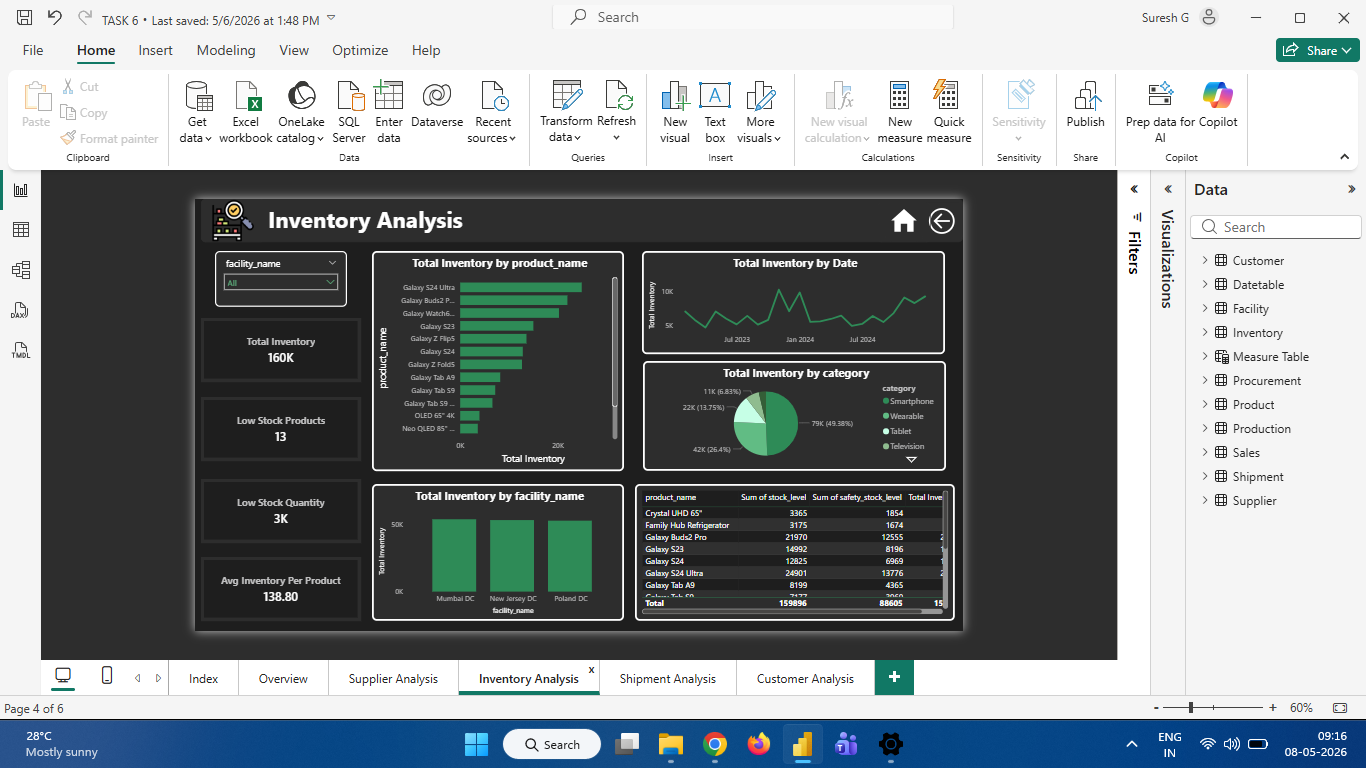

The page's visual inventory and layout, read from the dashboard file:
{"tool":"powerbi","page":{"name":"Inventory Analysis","canvas":[1280,720],"ordinal":3},"visuals":[{"type":"textbox","box":[10,0,1270,71.7],"z":0},{"type":"cardVisual","fields":{"Data":["Measure Table.Total Inventory"]},"box":[10,198.3,266.7,106.7],"z":1},{"type":"cardVisual","fields":{"Data":["Measure Table.Low Stock Products"]},"box":[10,330,266.7,106.7],"z":2},{"type":"cardVisual","fields":{"Data":["Measure Table.Low Stock Quantity"]},"box":[10,466.7,266.7,106.7],"z":3},{"type":"cardVisual","fields":{"Data":["Measure Table.Avg Inventory Per Product"]},"box":[10,596.7,266.7,106.7],"z":4},{"type":"clusteredBarChart","fields":{"Y":["Measure Table.Total Inventory"],"Category":["Product.product_name"]},"box":[295,86.7,420,366.7],"z":5},{"type":"clusteredColumnChart","fields":{"Y":["Measure Table.Total Inventory"],"Category":["Facility.facility_name"]},"box":[295,475,420,228.3],"z":6},{"type":"lineChart","title":"Total Inventory by Date","fields":{"Y":["Measure Table.Total Inventory"],"Category":["Datetable.date.Variation.Date Hierarchy.Year","Datetable.date.Variation.Date Hierarchy.Quarter","Datetable.date.Variation.Date Hierarchy.Month","Datetable.date.Variation.Date Hierarchy.Day"]},"box":[745,86.7,505,171.7],"z":7},{"type":"tableEx","fields":{"Values":["Product.product_name","Sum(Inventory.stock_level)","Sum(Inventory.safety_stock_level)","Measure Table.Total Inventory"]},"box":[733.3,475,533.3,228.3],"z":8},{"type":"pieChart","fields":{"Category":["Product.category"],"Y":["Measure Table.Total Inventory"]},"box":[746.7,270,505,183.3],"z":9},{"type":"slicer","fields":{"Values":["Facility.facility_name"]},"box":[33.3,86.7,220,93.3],"z":10},{"type":"image","box":[0,0,100,71.7],"z":11},{"type":"actionButton","box":[1180,5,71.7,63.3],"z":12},{"type":"image","box":[1095,5,85,63.3],"z":13}]}

Visuals, with their boxes on the page's 1280x720 design canvas (x1, y1, x2, y2). These are canvas units, not pixel positions in the 1366x768 screenshot, which may show the page scaled, cropped or inside an application window:
textbox: 10, 0, 1280, 72
cardVisual - Measure Table.Total Inventory: 10, 198, 277, 305
cardVisual - Measure Table.Low Stock Products: 10, 330, 277, 437
cardVisual - Measure Table.Low Stock Quantity: 10, 467, 277, 573
cardVisual - Measure Table.Avg Inventory Per Product: 10, 597, 277, 703
clusteredBarChart - Measure Table.Total Inventory x Product.product_name: 295, 87, 715, 453
clusteredColumnChart - Measure Table.Total Inventory x Facility.facility_name: 295, 475, 715, 703
"Total Inventory by Date" lineChart: 745, 87, 1250, 258
tableEx - Product.product_name x Sum(Inventory.stock_level): 733, 475, 1267, 703
pieChart - Product.category x Measure Table.Total Inventory: 747, 270, 1252, 453
slicer - Facility.facility_name: 33, 87, 253, 180
image: 0, 0, 100, 72
actionButton: 1180, 5, 1252, 68
image: 1095, 5, 1180, 68
